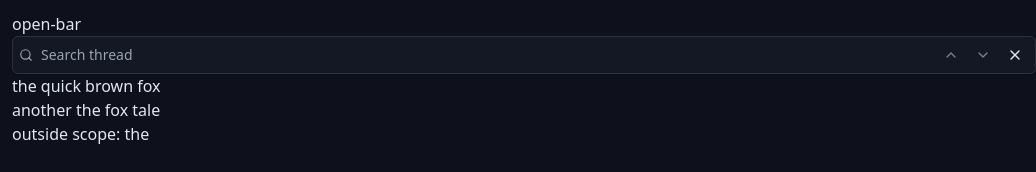
Test case: ThreadSearch UI › counts matches and announces N of M for the active match
In the field with placeholder "Search thread": (479, 55) [37,45,921,65], type "the"
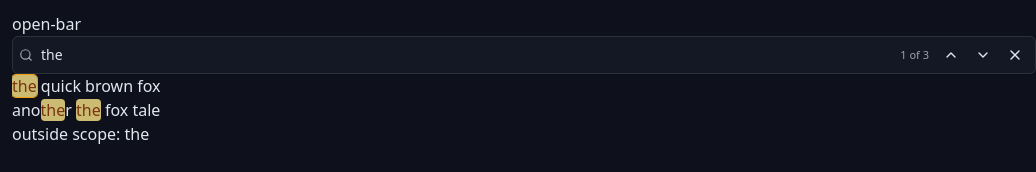
Now the text "1 of 3" is shown, box [900,47,929,62]
